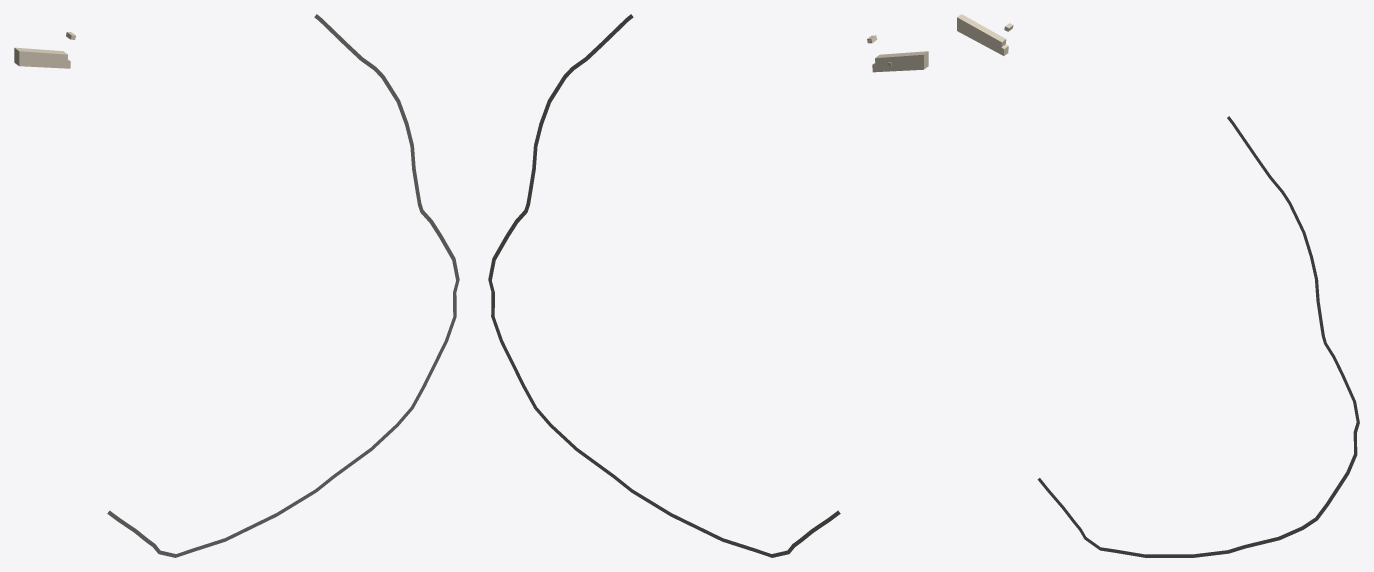
Rendered from historic-palestine-12_36_3541_3306.glb.
3 renders of one model, left to right at view 1: azimuth 30°, elevation 25°; view 2: azimuth 150°, elevation 25°; view 3: azimuth 330°, elevation 25°, orthographic. The views are drawn at different scales.
Parts seen in each view (by area): view 1: Road, Building_.001; view 2: Road, Building_.001; view 3: Road, Building_.001.
Part boxes in pixels (x1,y1,x2,y2): Road: [107, 14, 459, 557]; Building_.001: [14, 47, 70, 68]; Road: [488, 14, 840, 557]; Building_.001: [872, 51, 928, 72]; Road: [1037, 116, 1359, 557]; Building_.001: [957, 14, 1008, 55].
Size of the model in its own units: 391 by 464 by 8.7.
